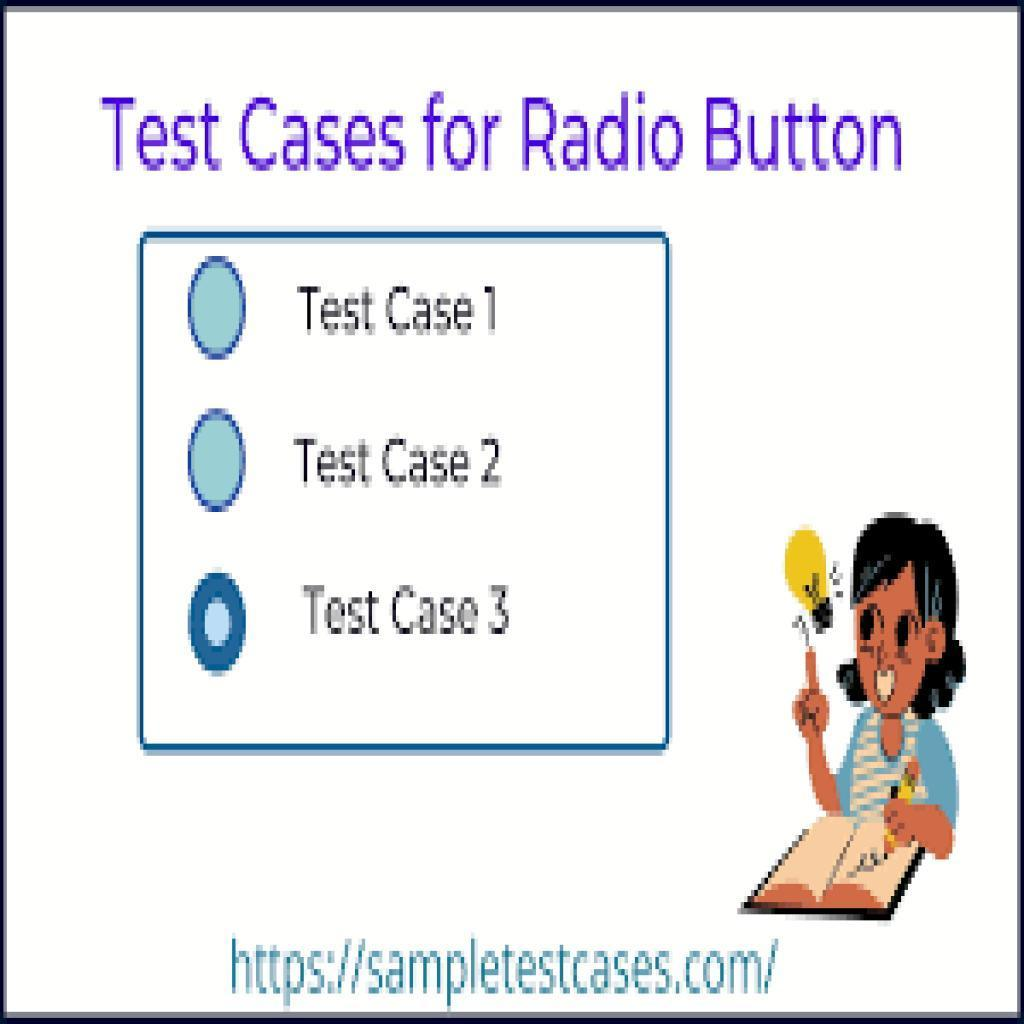radio: (180, 567, 256, 684), (181, 399, 254, 519), (182, 253, 257, 366)
